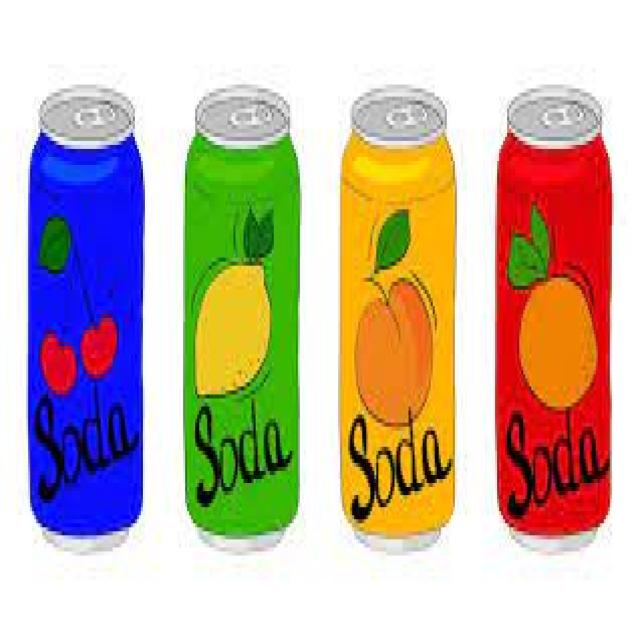Cans: (485, 72, 628, 560), (177, 72, 310, 564), (334, 77, 465, 560), (24, 72, 155, 552)
